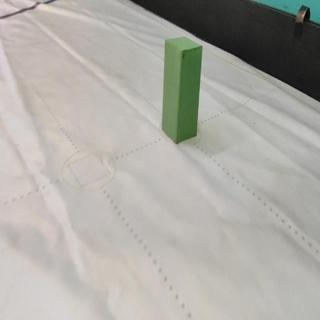greenbox: (160, 35, 202, 146)
